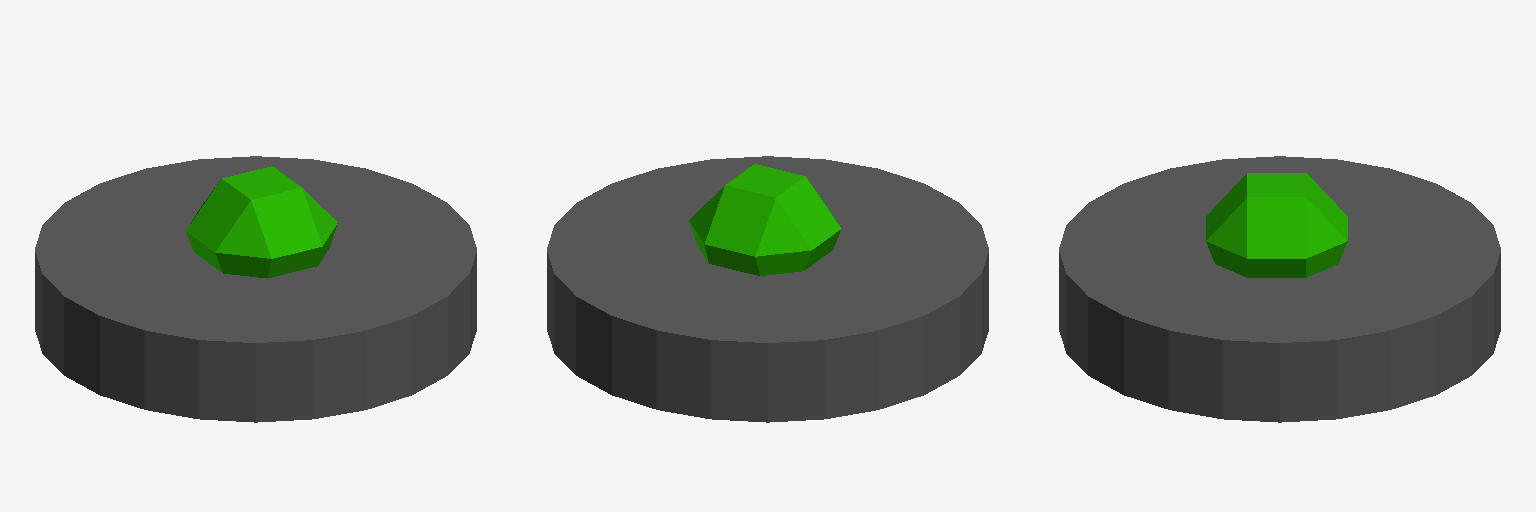
File: gems_emerald_1.obj
3 views of the same model, side by side, from view 1: azimuth 30°, elevation 25°; view 2: azimuth 150°, elevation 25°; view 3: azimuth 270°, elevation 25° (orthographic).
Visible parts, largest first — view 1: mergedBlocks; view 2: mergedBlocks; view 3: mergedBlocks.
Boxes of the visible parts, x1=… form: mergedBlocks: x1=35, y1=156, x2=476, y2=422; mergedBlocks: x1=547, y1=156, x2=988, y2=422; mergedBlocks: x1=1059, y1=156, x2=1500, y2=422.
Size of the model in its own units: 1 by 0.3645 by 1.